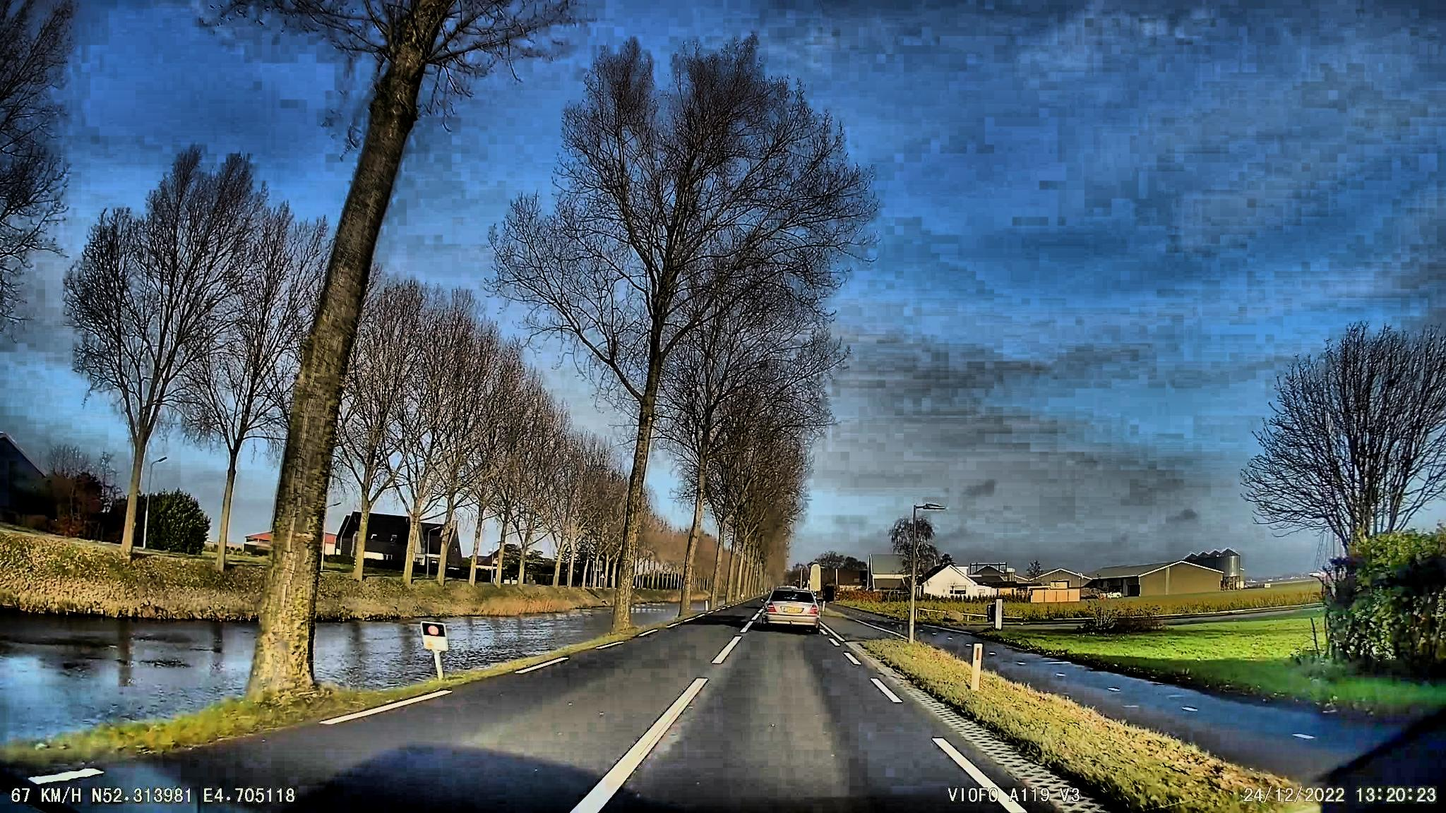Roads: (8, 601, 1061, 813)
